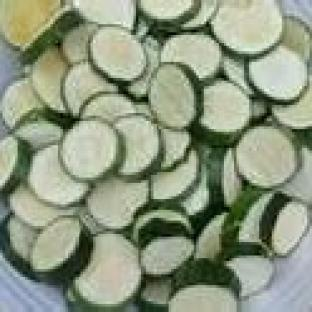Zucchini: (73, 232, 140, 311), (237, 124, 299, 188), (31, 218, 93, 282), (136, 210, 193, 277), (61, 119, 123, 180), (169, 259, 241, 311), (28, 146, 88, 207), (21, 6, 83, 64), (149, 65, 201, 129), (199, 81, 251, 145), (247, 46, 306, 102), (86, 178, 148, 231), (91, 27, 148, 83), (116, 113, 163, 180), (260, 194, 309, 255), (162, 33, 221, 83), (8, 186, 78, 228), (222, 243, 274, 298), (63, 62, 115, 115), (222, 186, 264, 247), (151, 151, 201, 201), (202, 148, 241, 212), (174, 259, 241, 295), (0, 216, 37, 279), (0, 78, 45, 129), (31, 49, 67, 112), (134, 205, 193, 242), (272, 78, 311, 129), (129, 38, 161, 99), (237, 194, 274, 244), (13, 113, 62, 150), (0, 135, 30, 193), (81, 92, 135, 123), (282, 148, 311, 204), (61, 22, 98, 64), (194, 213, 226, 260), (182, 167, 211, 217), (282, 17, 311, 64), (222, 54, 254, 96), (222, 148, 244, 207), (162, 127, 191, 169), (139, 278, 171, 311), (252, 97, 271, 123)
